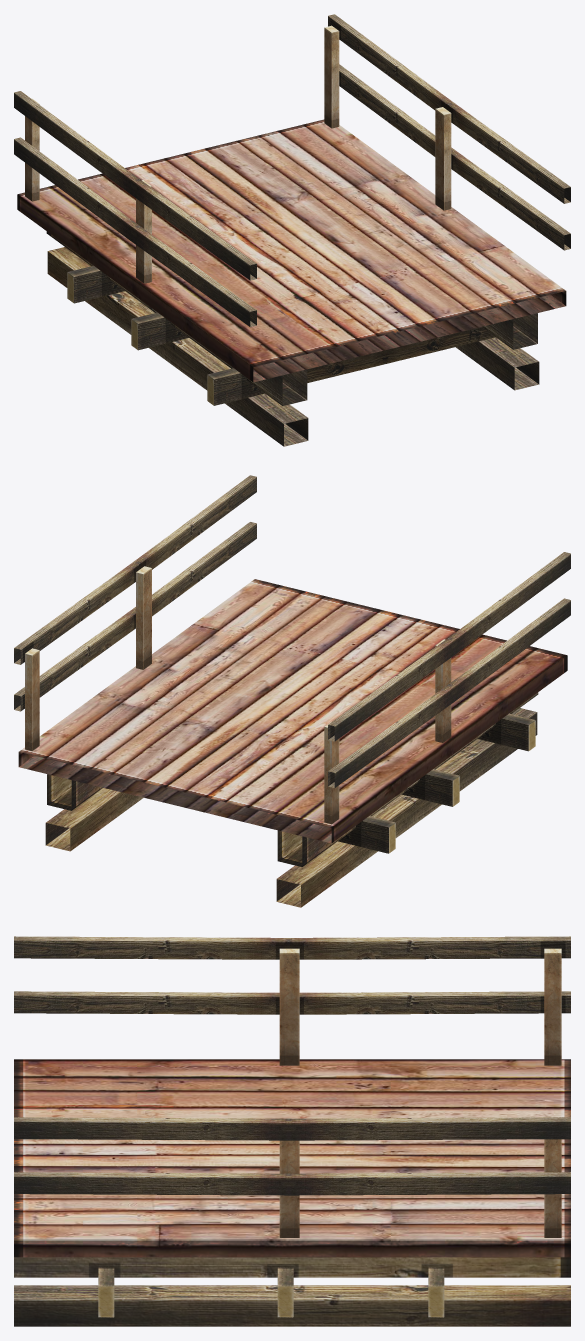
File: wooden_bridge_middle.fbx
3 views of the same model, one above another, from view 1: azimuth 30°, elevation 25°; view 2: azimuth 150°, elevation 25°; view 3: azimuth 270°, elevation 25° (orthographic). The views are drawn at different scales.
Visible parts, largest first — view 1: wooden_bridge_middle; view 2: wooden_bridge_middle; view 3: wooden_bridge_middle.
Boxes of the visible parts, left/top/right/bottom form: wooden_bridge_middle: left=14, top=14, right=570, bottom=446; wooden_bridge_middle: left=14, top=475, right=570, bottom=907; wooden_bridge_middle: left=14, top=936, right=570, bottom=1326.
Size of the model in its own units: 2.51 by 1.42 by 3.2.
